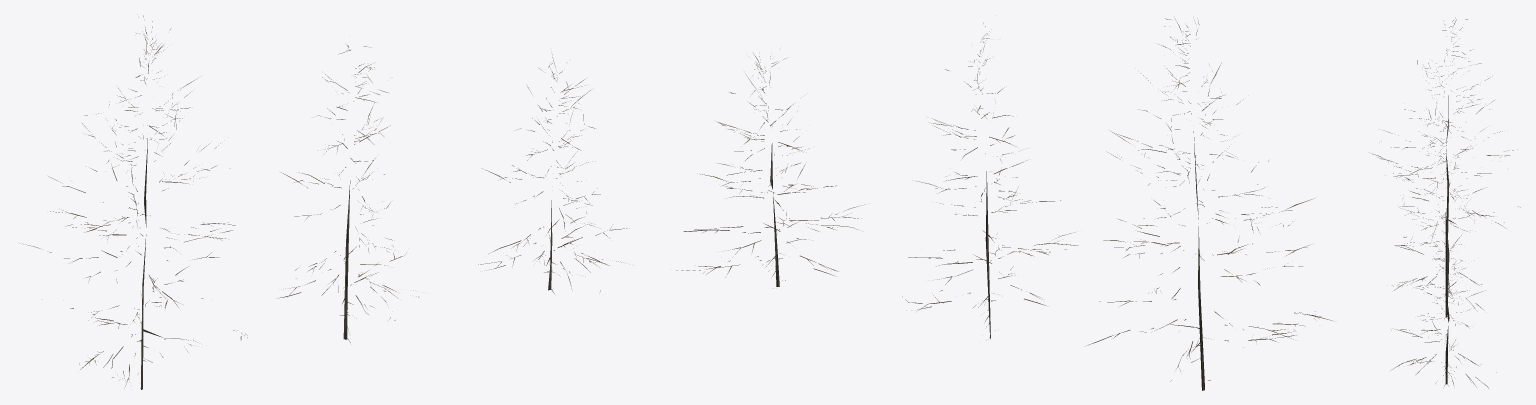
Rendered from fir_small.glb.
3 renders of one model, left to right at view 1: azimuth 30°, elevation 25°; view 2: azimuth 150°, elevation 25°; view 3: azimuth 270°, elevation 25°, orthographic. The views are drawn at different scales.
Visible parts, largest first — view 1: fir_sapling_medium_a_LOD0, fir_sapling_medium_b_LOD0, fir_sapling_medium_c_LOD0; view 2: fir_sapling_medium_a_LOD0, fir_sapling_medium_c_LOD0, fir_sapling_medium_b_LOD0; view 3: fir_sapling_medium_a_LOD0, fir_sapling_medium_b_LOD0, fir_sapling_medium_c_LOD0.
Part boxes in pixels (bbox=[...]): fir_sapling_medium_a_LOD0: bbox=[22, 15, 247, 389]; fir_sapling_medium_b_LOD0: bbox=[278, 45, 418, 342]; fir_sapling_medium_c_LOD0: bbox=[478, 54, 629, 293]; fir_sapling_medium_a_LOD0: bbox=[1087, 18, 1332, 390]; fir_sapling_medium_c_LOD0: bbox=[676, 53, 864, 286]; fir_sapling_medium_b_LOD0: bbox=[902, 23, 1078, 338]; fir_sapling_medium_a_LOD0: bbox=[1372, 17, 1520, 239]; fir_sapling_medium_b_LOD0: bbox=[1392, 122, 1484, 320]; fir_sapling_medium_c_LOD0: bbox=[1391, 231, 1496, 388].
Bounding box in the file's own units: 14.51 × 8.63 × 4.93.
3 materials, 3 textured.
